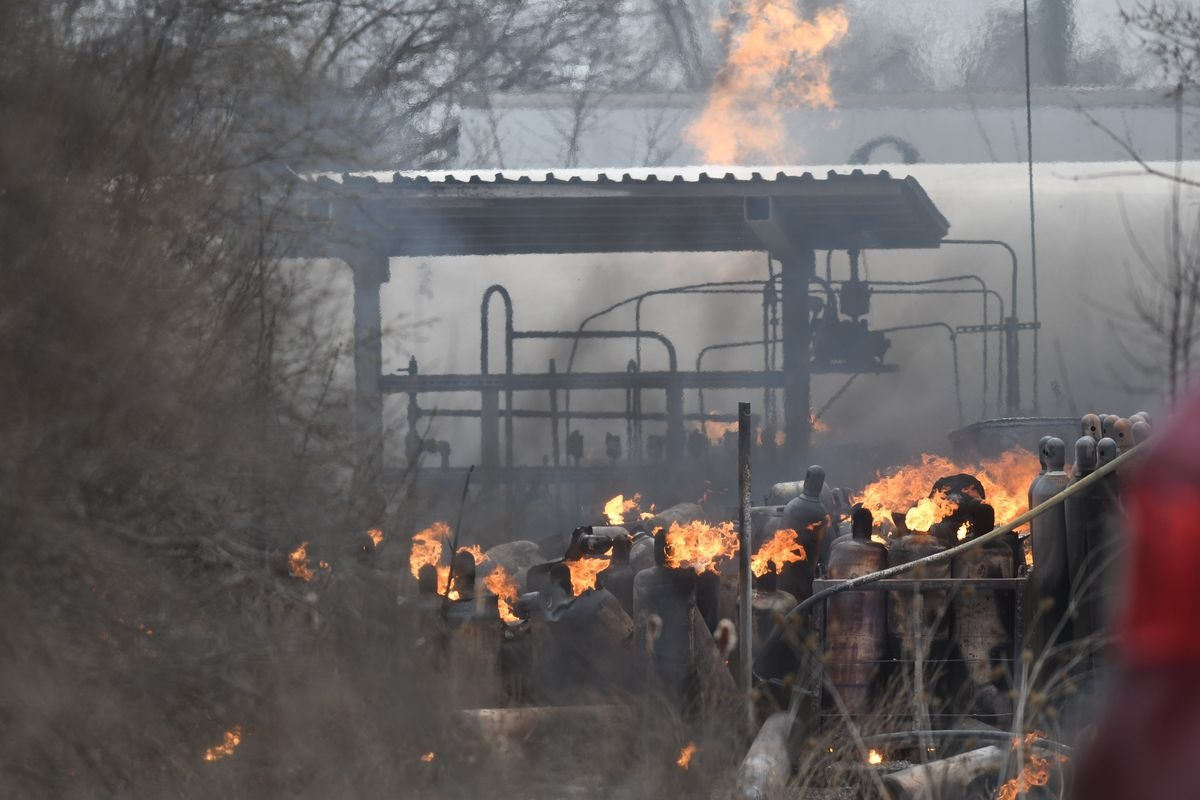fire: (842, 417, 1055, 555), (681, 11, 848, 178), (616, 483, 803, 584), (378, 511, 522, 633), (565, 532, 615, 607)
